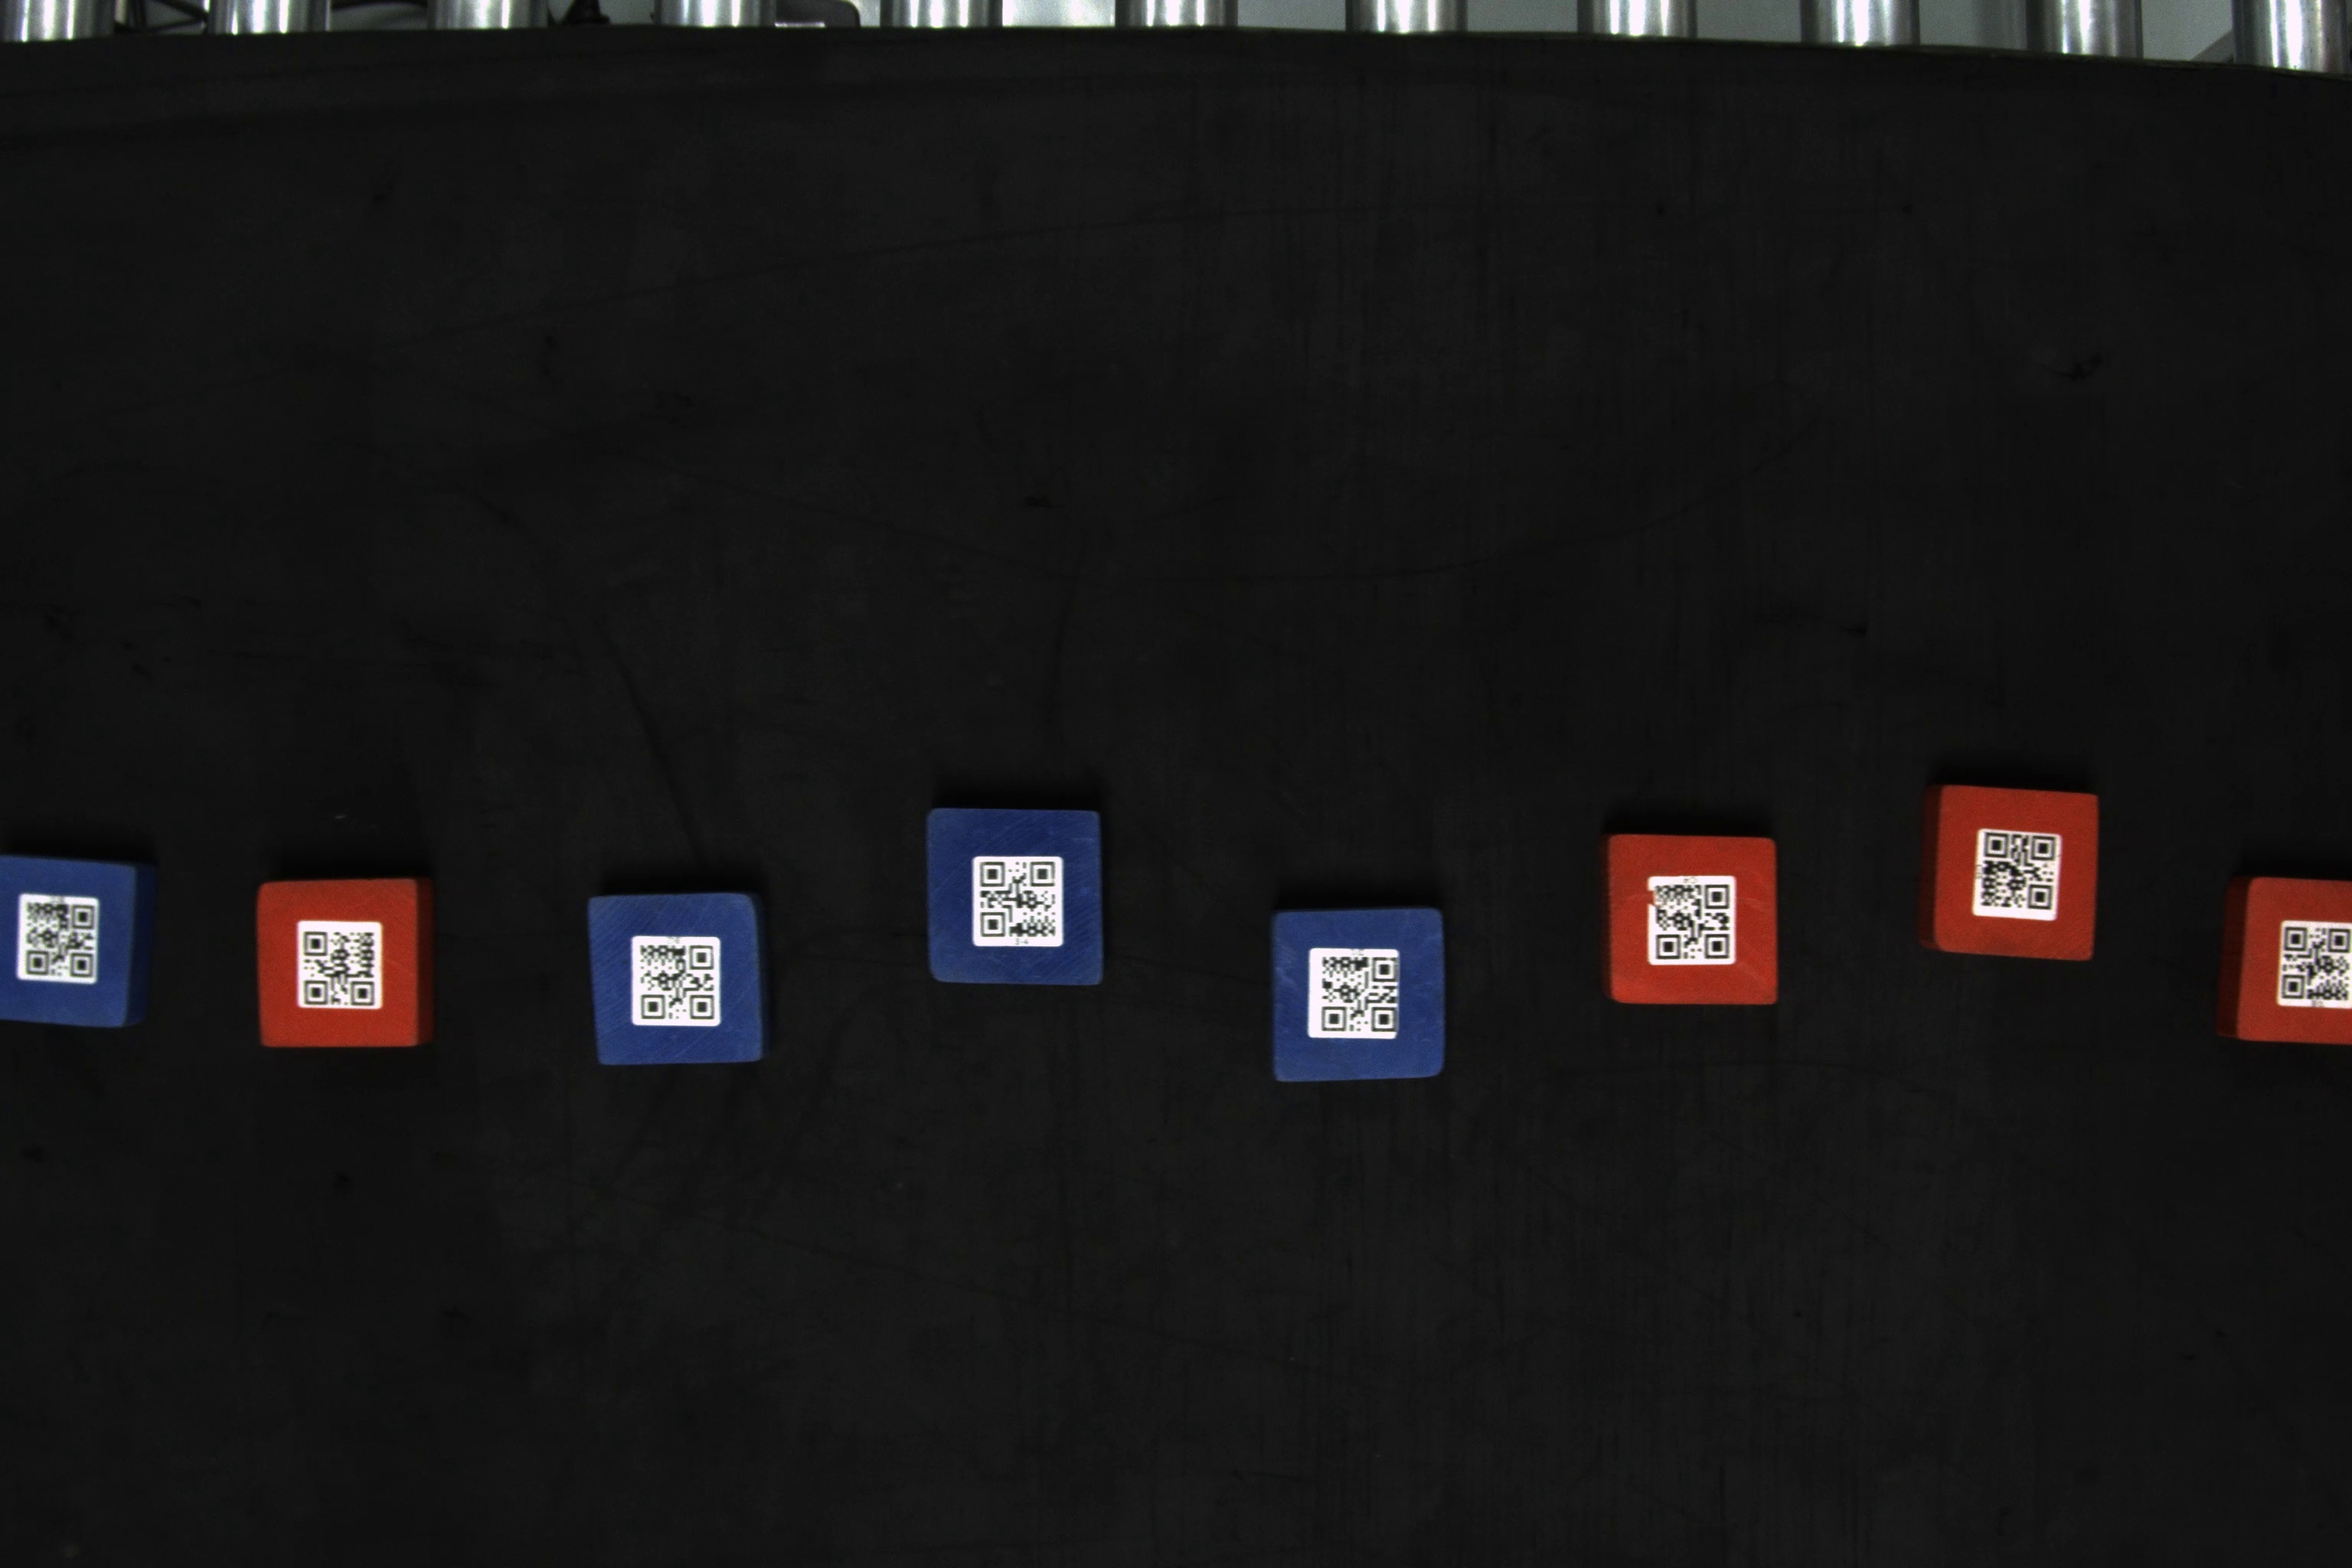wood: (1598, 822, 1790, 1011), (922, 803, 1111, 992), (579, 885, 775, 1066), (1267, 903, 1459, 1085), (1923, 775, 2107, 964), (252, 875, 434, 1053), (0, 843, 154, 1027), (2212, 864, 2347, 1050)
